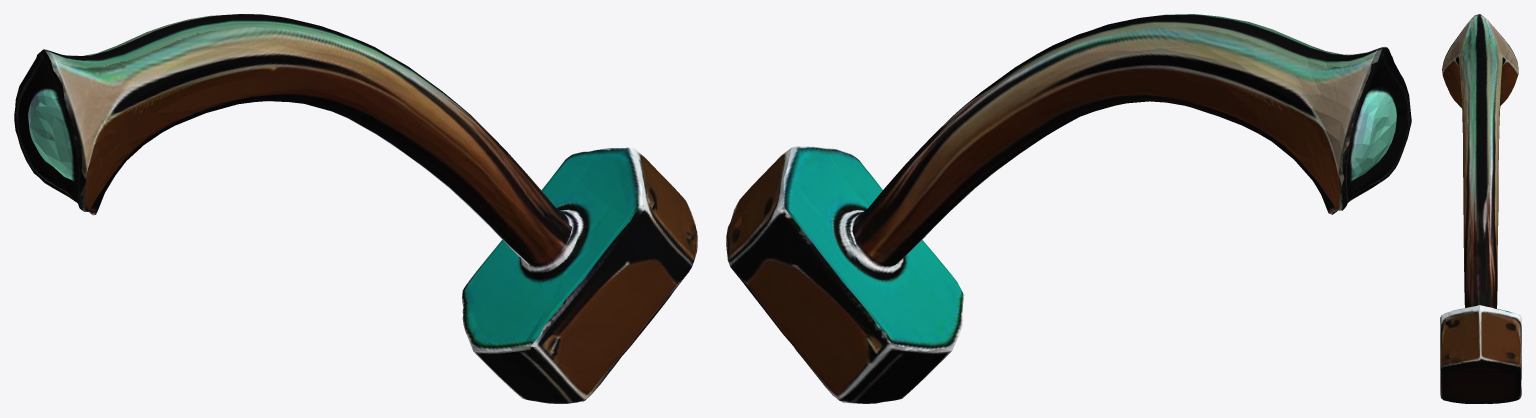
File: piton.glb
3 views of the same model, side by side, from view 1: azimuth 30°, elevation 25°; view 2: azimuth 150°, elevation 25°; view 3: azimuth 270°, elevation 25° (orthographic). The views are drawn at different scales.
Visible parts, largest first — view 1: tmpa8_js3_g.ply; view 2: tmpa8_js3_g.ply; view 3: tmpa8_js3_g.ply.
Part boxes in pixels (box(x1,y1,x2,y2)): tmpa8_js3_g.ply: box(14, 14, 697, 403); tmpa8_js3_g.ply: box(726, 14, 1411, 403); tmpa8_js3_g.ply: box(1440, 14, 1521, 403).
Bounding box in the file's own units: 1.99 × 1.38 × 0.3939.
1 material, 1 textured.
